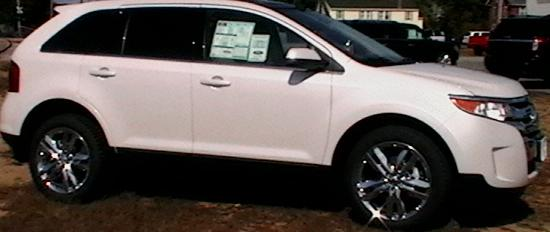backlight: (0, 51, 34, 100)
front_view: (441, 80, 547, 187)
headlight: (449, 95, 512, 129)
side_glass: (104, 1, 327, 76)
